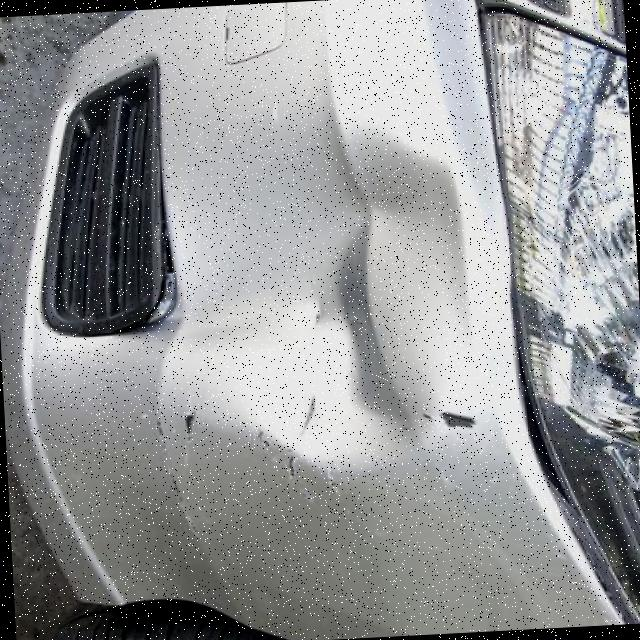Dent: (162, 90, 490, 482)
